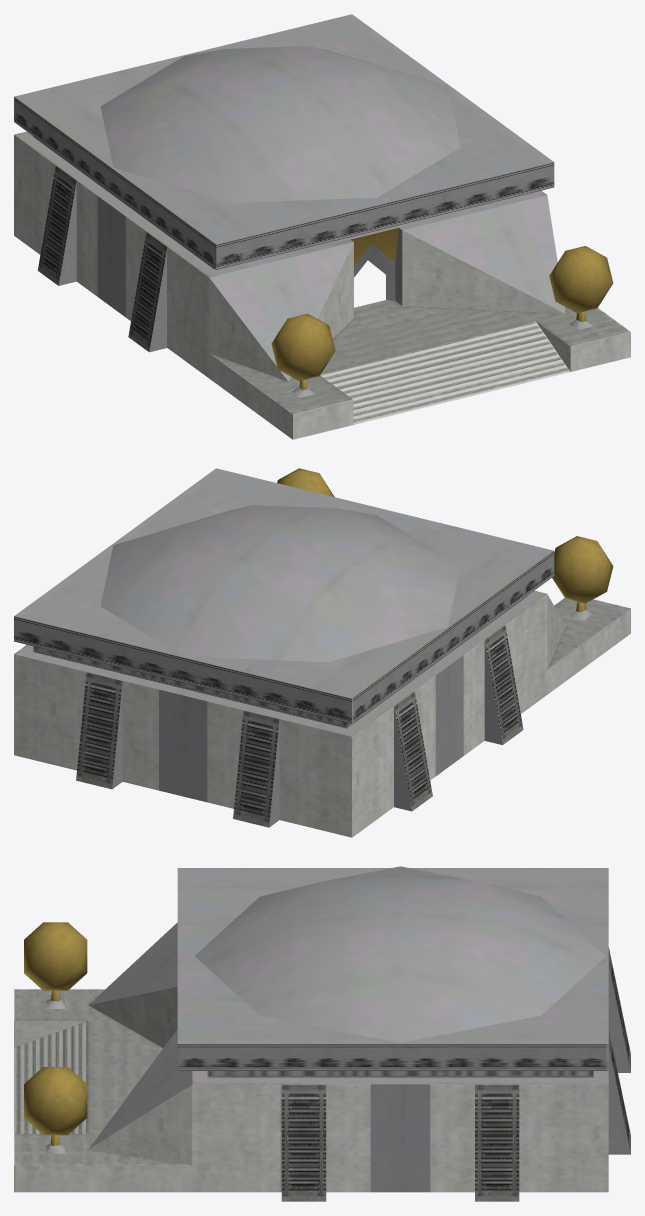
File: mun_corl_guild_commerce_s01_r0_exterior_mesh_corl_guildcommerce_l2.fbx
The picture shows the model from 3 angles, top to bottom: view 1: azimuth 30°, elevation 25°; view 2: azimuth 150°, elevation 25°; view 3: azimuth 270°, elevation 25°; orthographic projection. The views are drawn at different scales.
Visible parts, largest first — view 1: mesh_node; view 2: mesh_node; view 3: mesh_node.
Boxes of the visible parts, bbox=[...] form: mesh_node: bbox=[14, 14, 630, 439]; mesh_node: bbox=[14, 468, 630, 837]; mesh_node: bbox=[14, 866, 630, 1201].
Bounding box in the file's own units: 38.75 × 18.45 × 51.88.
1 material, 1 textured.
